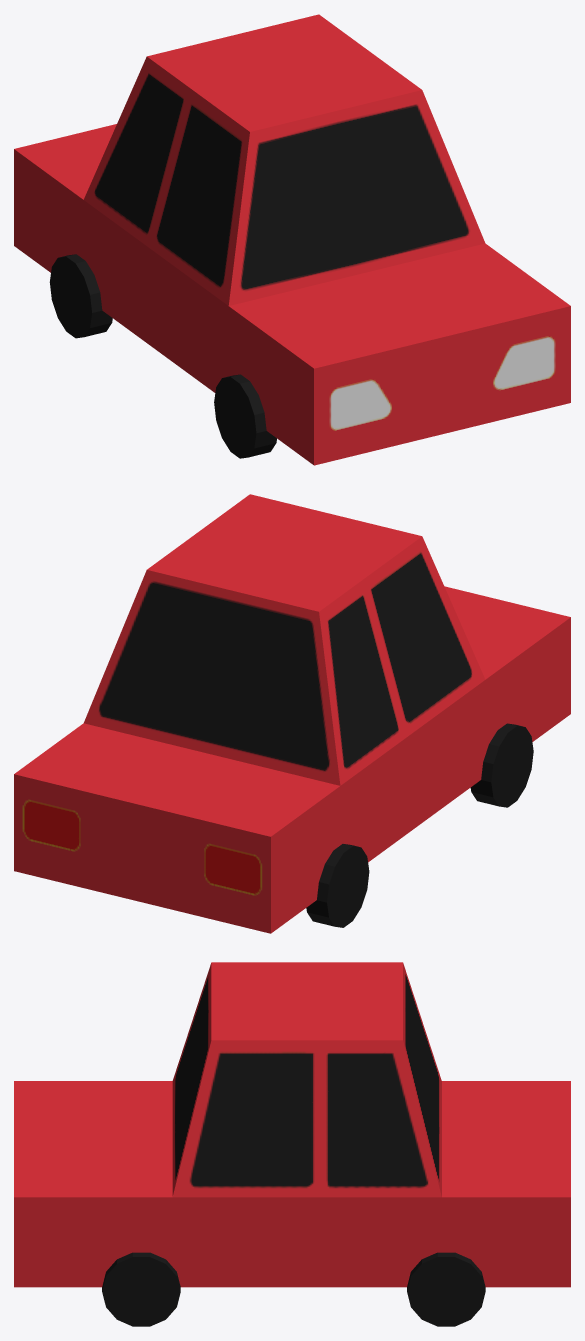
Rendered from Car_Red.fbx.
3 views of the same model, one above another, from view 1: azimuth 30°, elevation 25°; view 2: azimuth 150°, elevation 25°; view 3: azimuth 270°, elevation 25° (orthographic). The views are drawn at different scales.
Visible parts, largest first — view 1: Car_Red; view 2: Car_Red; view 3: Car_Red.
Boxes of the visible parts, bbox=[...] form: Car_Red: bbox=[14, 14, 570, 465]; Car_Red: bbox=[14, 494, 570, 933]; Car_Red: bbox=[14, 962, 570, 1326].
Size of the model in its own units: 141 by 138 by 265.
Materials: 1 (1 with a texture image).
